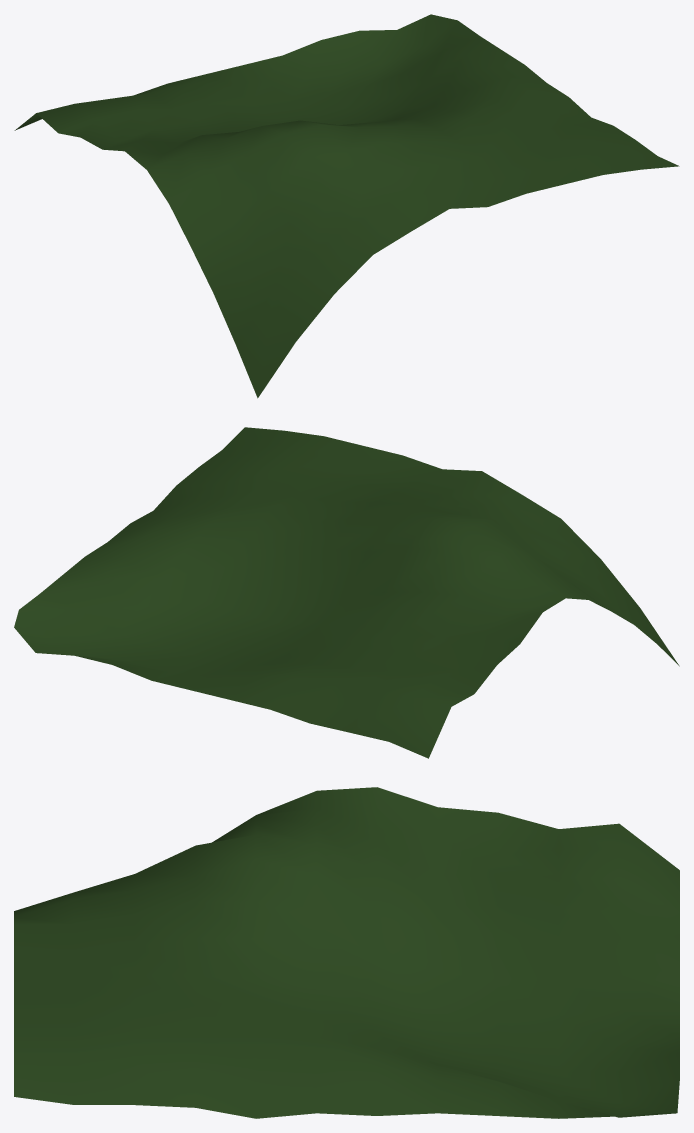
The picture shows the model from 3 angles, top to bottom: view 1: azimuth 30°, elevation 25°; view 2: azimuth 150°, elevation 25°; view 3: azimuth 270°, elevation 25°; orthographic projection. The views are drawn at different scales.
Visible parts, largest first — view 1: TerrainModel.086; view 2: TerrainModel.086; view 3: TerrainModel.086.
Part boxes in pixels (<box>): TerrainModel.086: <box>14,14,679,398</box>; TerrainModel.086: <box>14,427,679,758</box>; TerrainModel.086: <box>14,787,679,1118</box>.
Bounding box in the file's own units: 21569 × 8370 × 21569.
